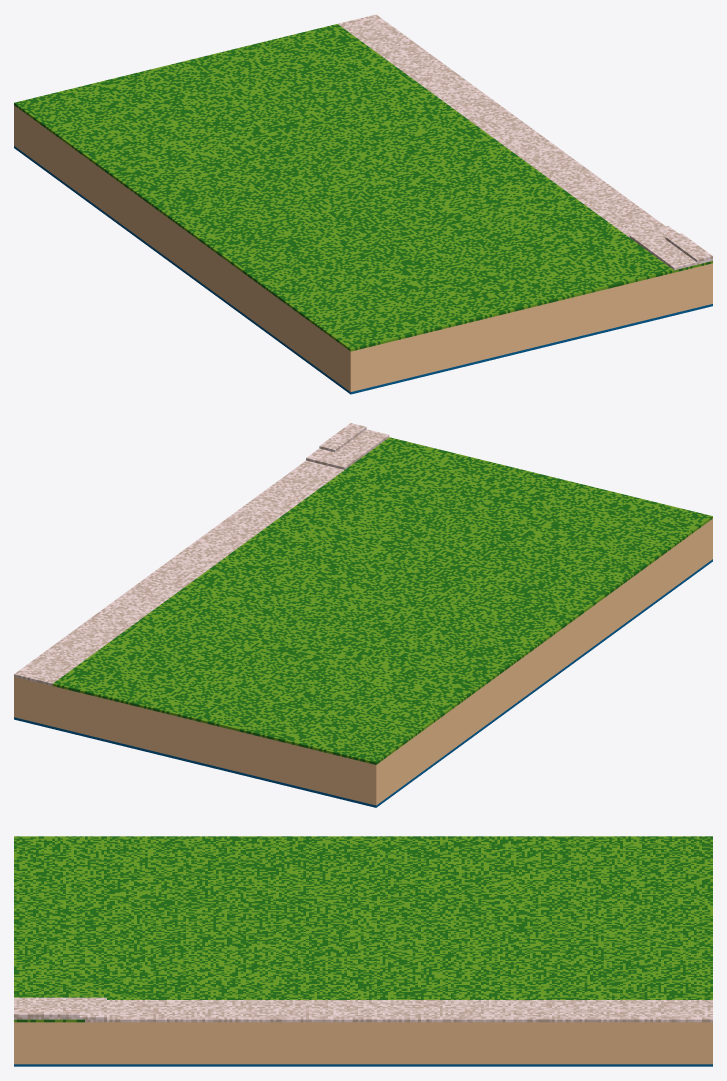
The model's file is castelloVillafranca-36.obj.
The picture shows the model from 3 angles, top to bottom: view 1: azimuth 30°, elevation 25°; view 2: azimuth 150°, elevation 25°; view 3: azimuth 270°, elevation 25°; orthographic projection. The views are drawn at different scales.
Size of the model in its own units: 15.9 by 2.1 by 25.6.
1 material, 1 textured.
